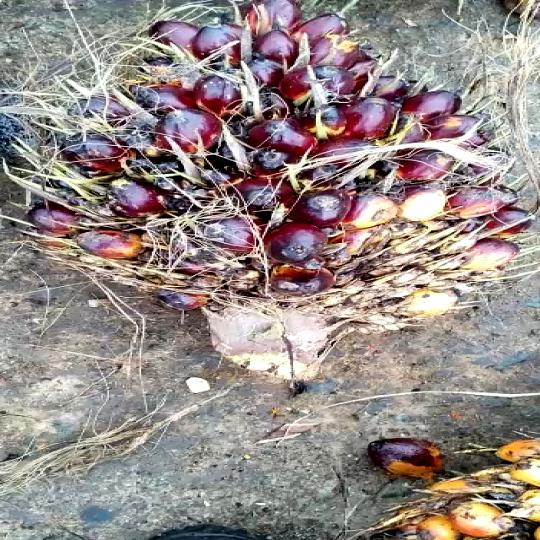kurang masak: (0, 1, 540, 363)
